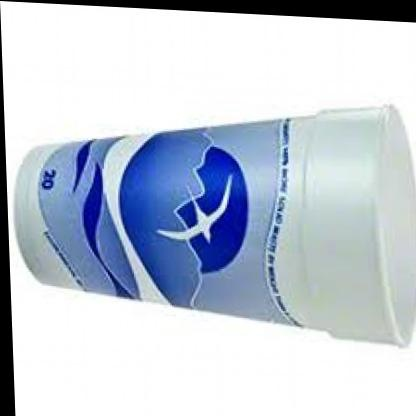trash: (15, 106, 415, 345)
